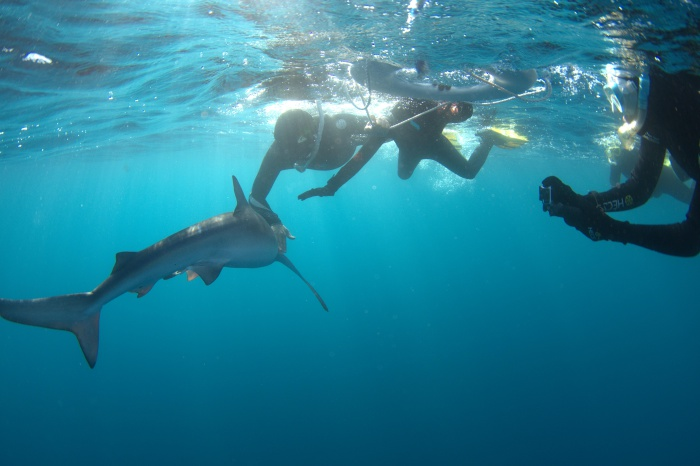Azul: (1, 167, 368, 375)
